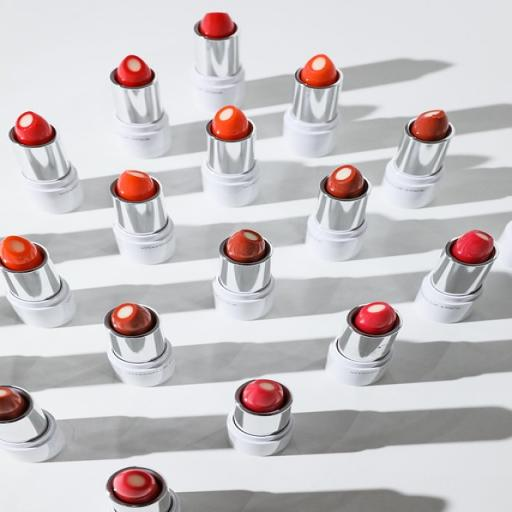lipstick: (415, 231, 497, 323), (10, 112, 83, 213), (0, 236, 75, 327), (383, 111, 454, 207), (327, 302, 401, 385), (111, 56, 171, 158), (306, 165, 370, 260), (111, 170, 176, 263), (283, 55, 342, 156), (105, 304, 175, 386), (202, 106, 258, 207), (213, 230, 274, 319), (192, 12, 244, 111), (227, 380, 293, 455), (0, 386, 64, 462), (107, 467, 181, 511), (498, 221, 511, 267)
